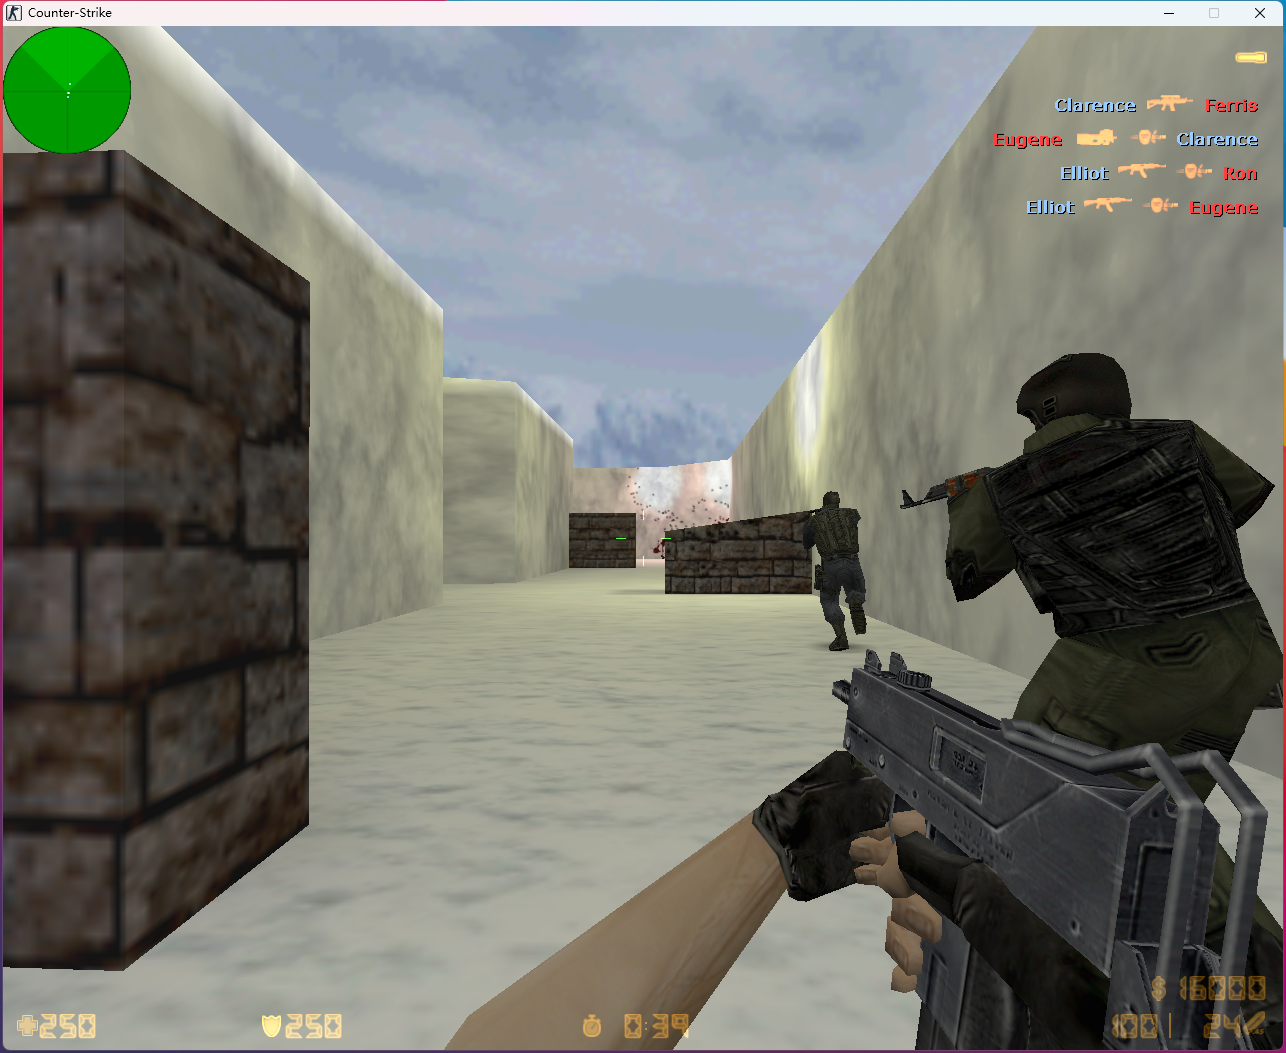C: (941, 355, 1279, 828), (802, 490, 873, 654)
